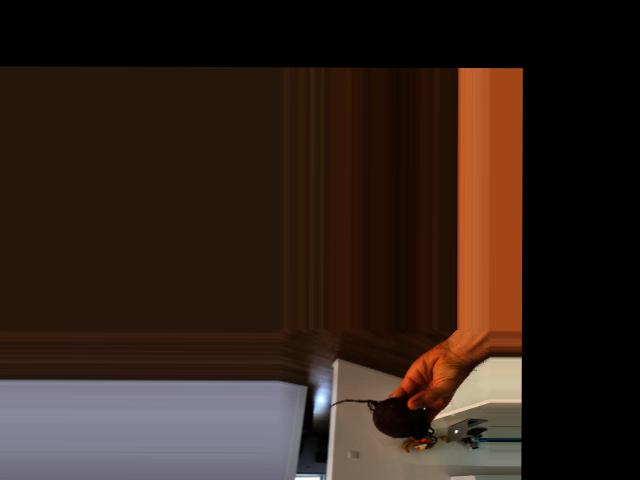beet: (328, 397, 433, 439)
